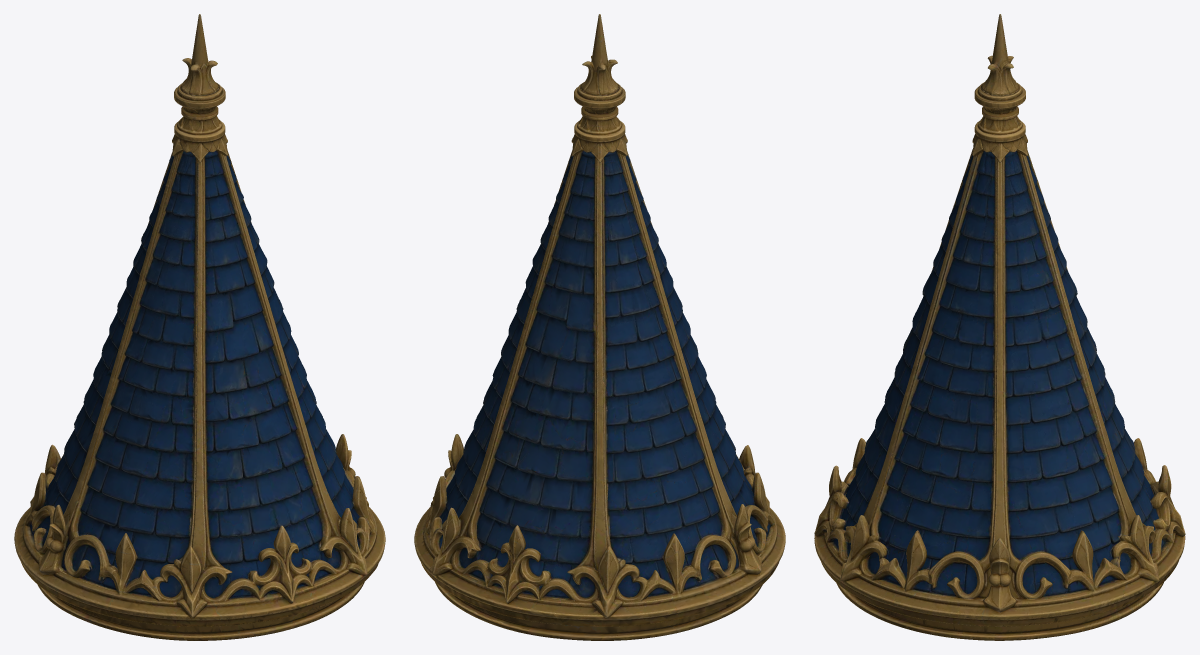
File: Meshy_AI_A_single_standalone_m_0823050612_texture.glb
3 views of the same model, side by side, from view 1: azimuth 30°, elevation 25°; view 2: azimuth 150°, elevation 25°; view 3: azimuth 270°, elevation 25° (orthographic).
Parts seen in each view (by area): view 1: mesh_node; view 2: mesh_node; view 3: mesh_node.
Part boxes in pixels (x1=…): mesh_node: x1=14, y1=14, x2=385, y2=640; mesh_node: x1=414, y1=14, x2=785, y2=640; mesh_node: x1=814, y1=14, x2=1185, y2=640.
Bounding box in the file's own units: 1.15 × 1.9 × 1.15.
1 material, 1 textured.
